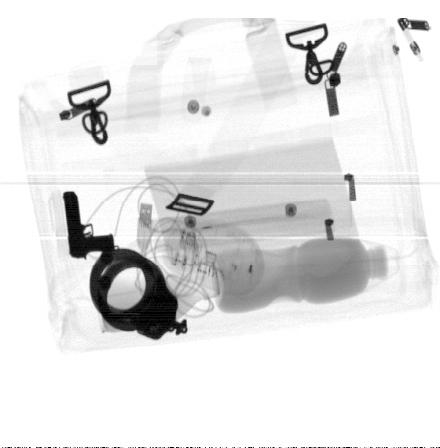Gun: (62, 192, 115, 261)
HandCuffs: (90, 248, 188, 341)
